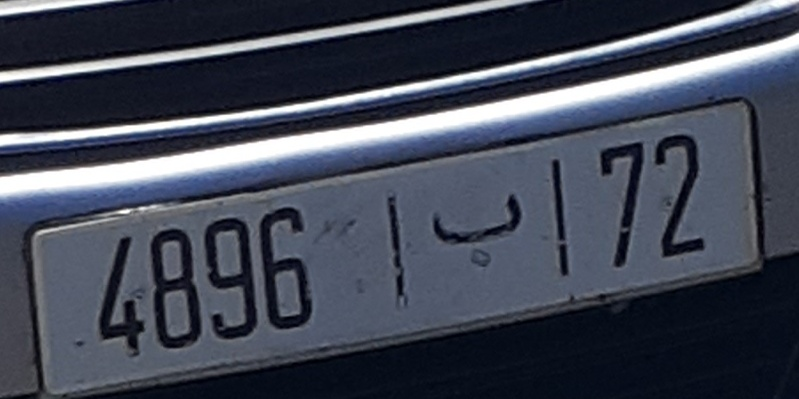2: (652, 131, 709, 261)
4: (77, 239, 146, 365)
6: (258, 199, 315, 333)
7: (592, 141, 645, 271)
8: (148, 215, 202, 354)
9: (205, 214, 252, 343)
b: (420, 185, 528, 278)
